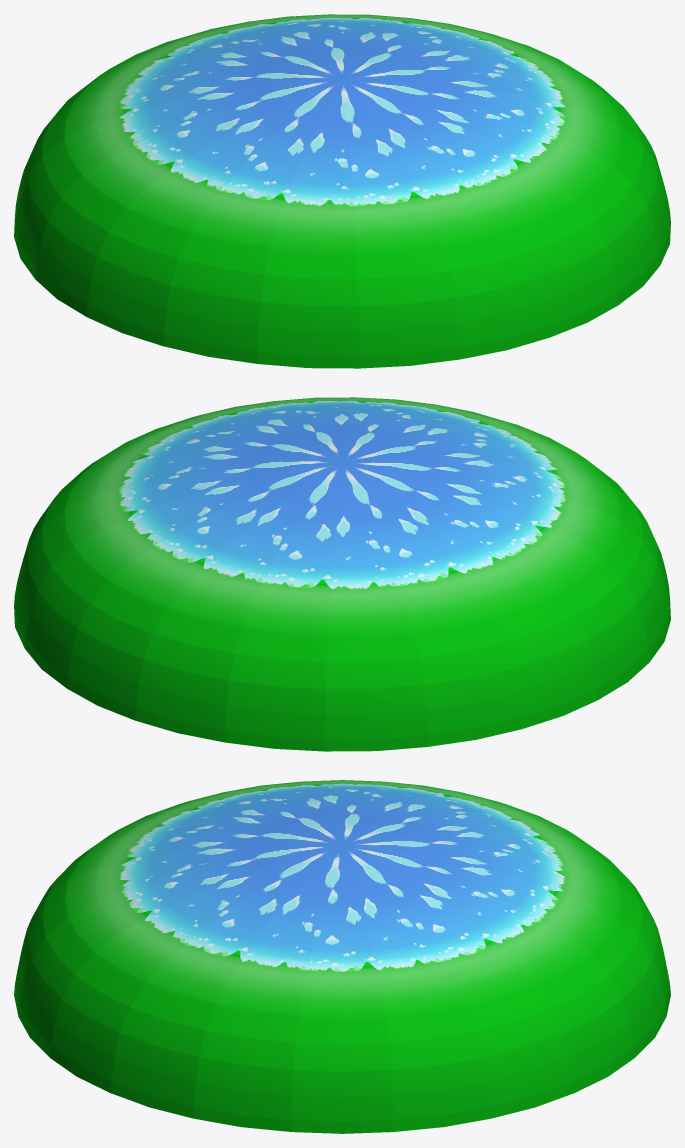
File: bg_other_014.fbx
The picture shows the model from 3 angles, top to bottom: view 1: azimuth 30°, elevation 25°; view 2: azimuth 150°, elevation 25°; view 3: azimuth 270°, elevation 25°; orthographic projection.
Parts seen in each view (by area): view 1: sky; view 2: sky; view 3: sky.
Boxes of the visible parts, bbox=[...] form: sky: bbox=[14, 14, 670, 368]; sky: bbox=[14, 397, 670, 751]; sky: bbox=[14, 780, 670, 1133].
Size of the model in its own units: 799891 by 201412 by 799892.
